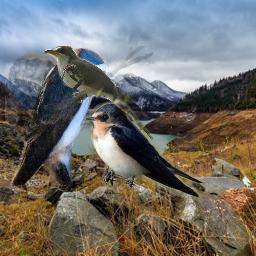Cuckoo: (44, 46, 153, 140)
Swallow: (5, 46, 106, 185), (84, 101, 204, 201)
